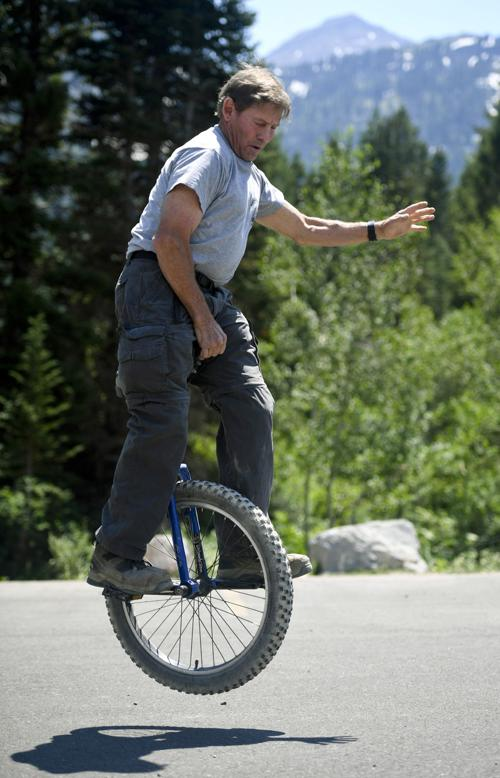wheel: (95, 470, 293, 691)
